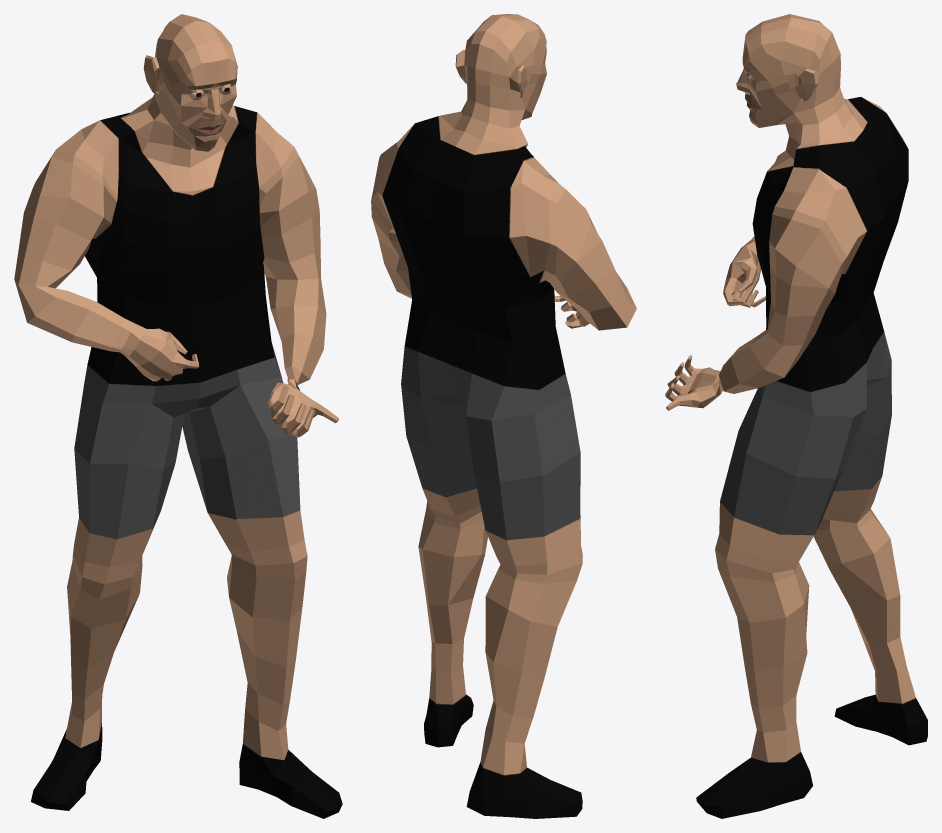
Rendered from PlayerIdle(77).obj.
The picture shows the model from 3 angles, left to right: view 1: azimuth 30°, elevation 25°; view 2: azimuth 150°, elevation 25°; view 3: azimuth 270°, elevation 25°; orthographic projection. The views are drawn at different scales.
Visible parts, largest first — view 1: Plane002; view 2: Plane002; view 3: Plane002.
Part boxes in pixels (x1,y1,x2,y2): Plane002: (14, 14, 342, 818); Plane002: (371, 14, 636, 818); Plane002: (665, 14, 927, 818).
Size of the model in its own units: 669 by 1799 by 572.
